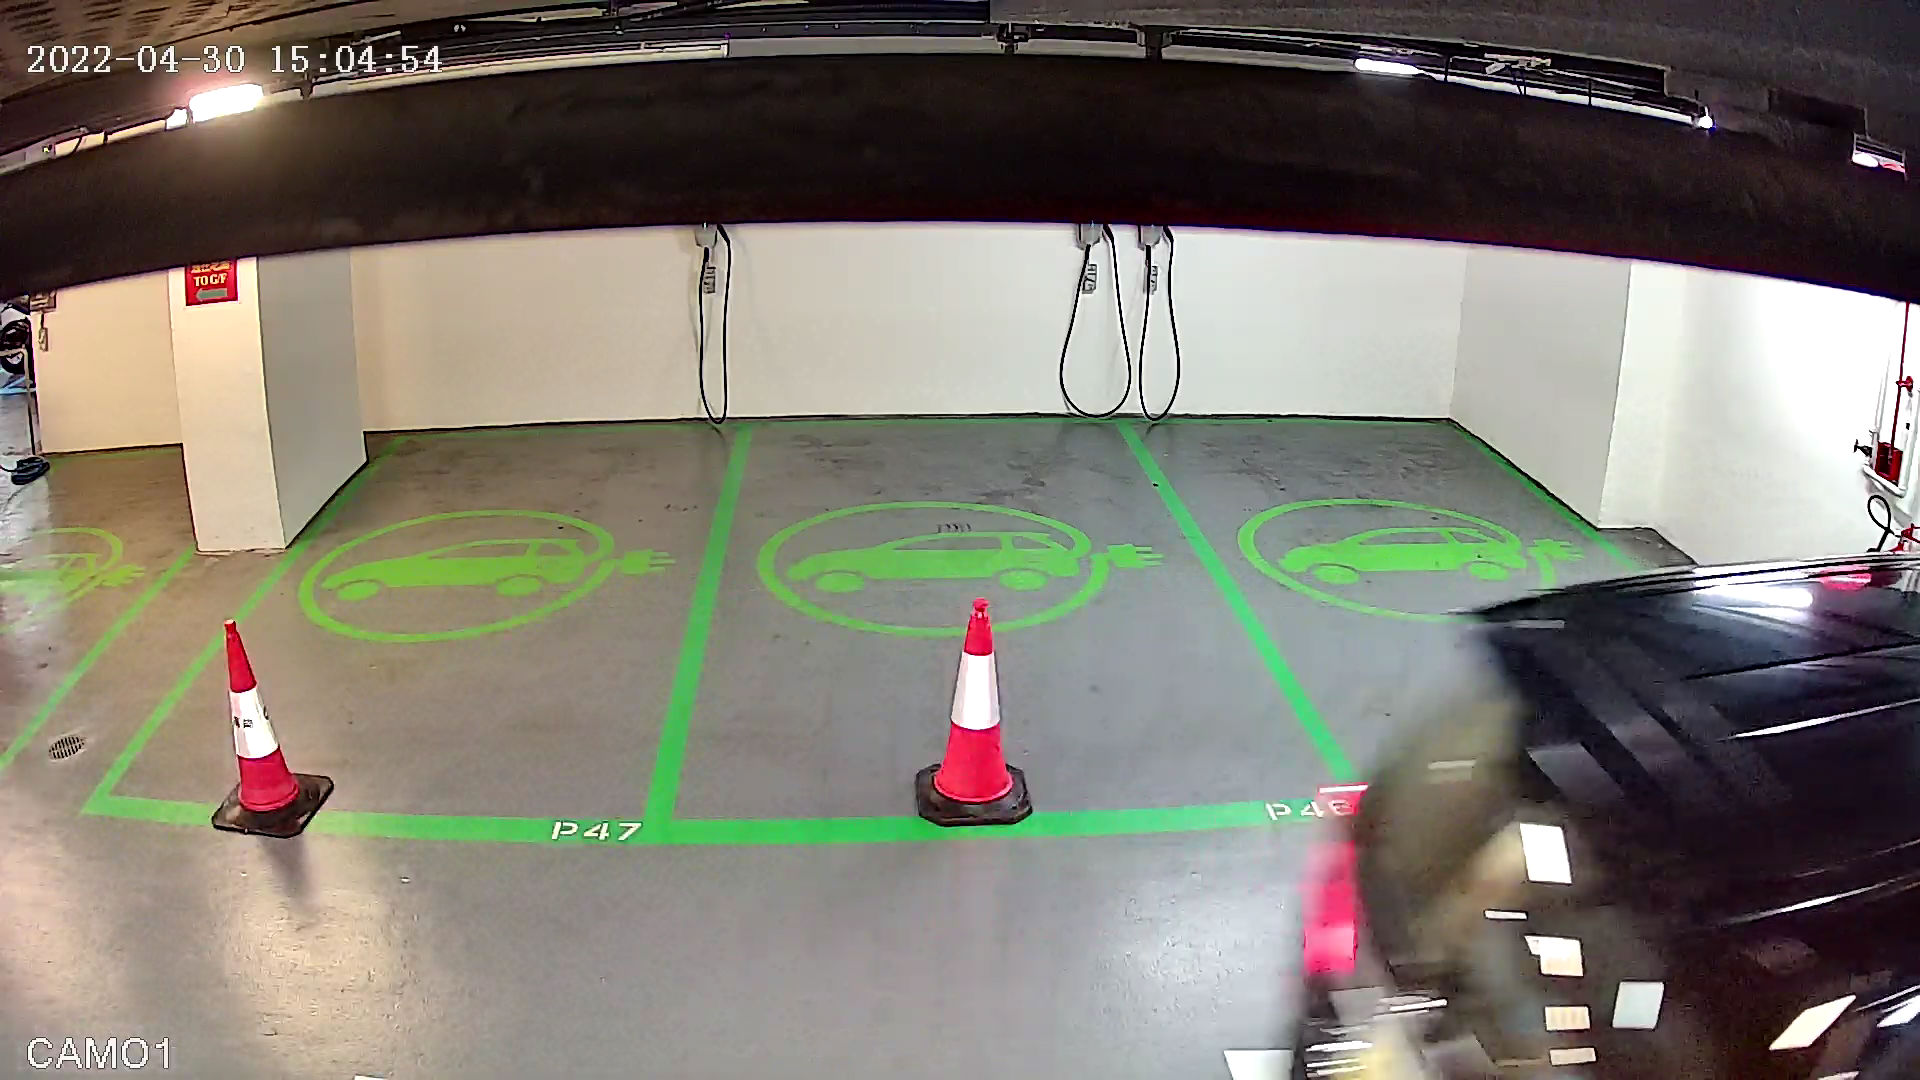space: (609, 353, 1387, 895), (66, 373, 771, 898), (1084, 357, 1800, 849)
